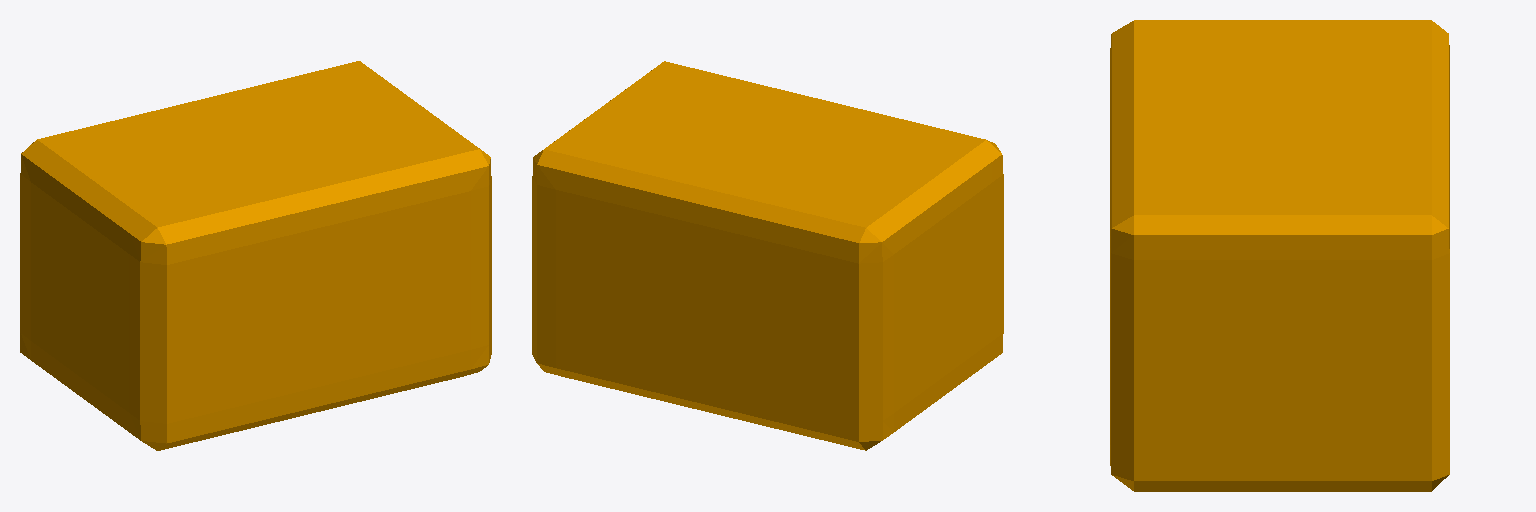
robot.urdf — cylinder_box_18:
<?xml version="1.0" encoding="utf-8"?>  <robot name="cylinder_box_18">   <link name="cylinder_box_18">     <visual>       <geometry>         <mesh filename="../meshes/box/box_18.stl" scale="1 1 1"/>       </geometry>     </visual>     <collision>       <geometry>         <mesh filename="../meshes/box/box_18.stl" scale="1 1 1"/>       </geometry>     </collision>     <inertial>        <origin         xyz="0 0 0"         rpy="0 0 0" />       <mass value="0.3212999440952065"/>       <origin rpy="0 0 0" xyz="0 0 0"/>       <inertia ixx="0.00018620391901926866" ixy="-1.4874675908075271e-08" ixz="-1.4121347998229274e-08" iyy="0.00030832374491724957" iyz="2.1652209108075155e-08" izz="0.0003282414479491127"/>     </inertial>   </link>  </robot>

--- What the picture shows (computed from the rendered views, not written in the file) ---
The picture shows the robot from 3 angles, left to right: view 1: azimuth 30°, elevation 25°; view 2: azimuth 150°, elevation 25°; view 3: azimuth 270°, elevation 25°; orthographic projection.
Model cylinder_box_18 with 1 links and 0 joints (none), rooted at cylinder_box_18, posed all joints at 0.
Links seen in each view (by area): view 1: cylinder_box_18; view 2: cylinder_box_18; view 3: cylinder_box_18.
Boxes of the visible links, left/top/right/bottom form: cylinder_box_18: left=20, top=61, right=491, bottom=450; cylinder_box_18: left=532, top=61, right=1003, bottom=450; cylinder_box_18: left=1110, top=20, right=1449, bottom=491.
Size in the robot's own frame: 0.0925 by 0.0627 by 0.0563 metres.
1 mesh visuals loaded from 1 distinct referenced files (1 binary STL).